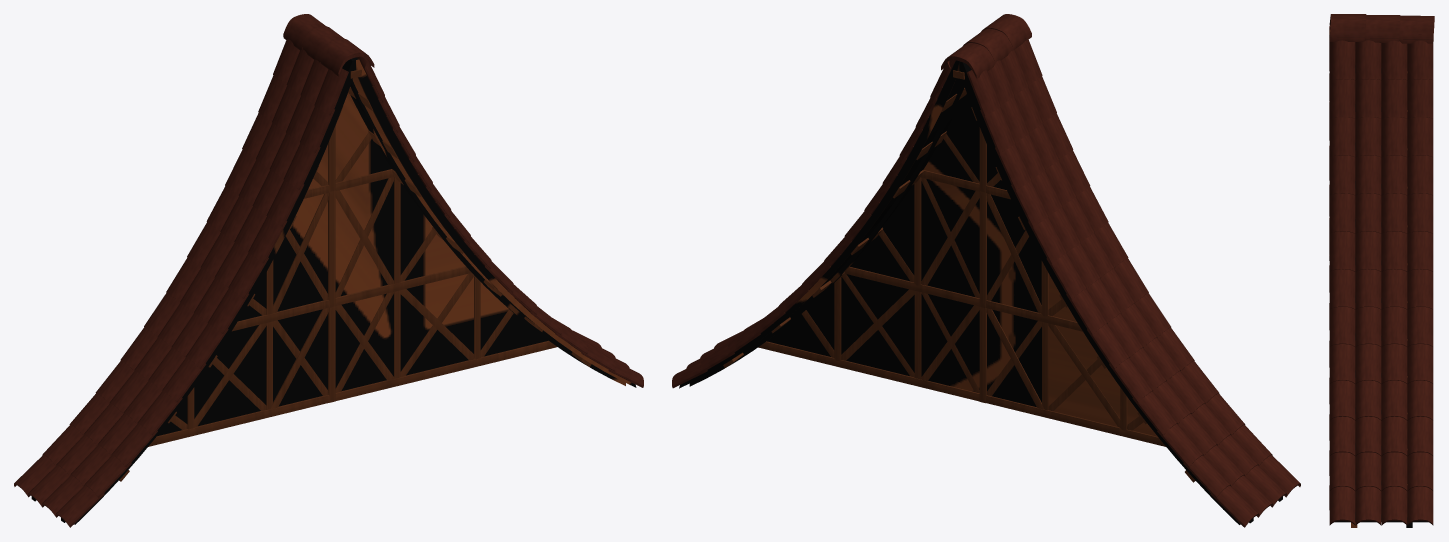
Rendered from L_Roof_Frame_Wood_002.fbx.
3 views of the same model, side by side, from view 1: azimuth 30°, elevation 25°; view 2: azimuth 150°, elevation 25°; view 3: azimuth 270°, elevation 25° (orthographic). The views are drawn at different scales.
Parts seen in each view (by area): view 1: l roof mesh for normals.002, L_Roof_Frame_Wood.002, Cube.024, Cube.027; view 2: l roof mesh for normals.002, L_Roof_Frame_Wood.002, Cube.024, Cube.027; view 3: l roof mesh for normals.002, L_Roof_Frame_Wood.002.
Part boxes in pixels (left/top/right/bottom): l roof mesh for normals.002: left=14, top=14, right=643, bottom=527; L_Roof_Frame_Wood.002: left=31, top=57, right=636, bottom=524; Cube.024: left=148, top=126, right=556, bottom=446; Cube.027: left=119, top=69, right=591, bottom=481; l roof mesh for normals.002: left=672, top=14, right=1300, bottom=527; L_Roof_Frame_Wood.002: left=679, top=60, right=1282, bottom=524; Cube.024: left=758, top=127, right=1165, bottom=446; Cube.027: left=723, top=70, right=1195, bottom=482; l roof mesh for normals.002: left=1329, top=14, right=1434, bottom=525; L_Roof_Frame_Wood.002: left=1335, top=65, right=1427, bottom=527.
Bounding box in the file's own units: 1292 × 870 × 217.
